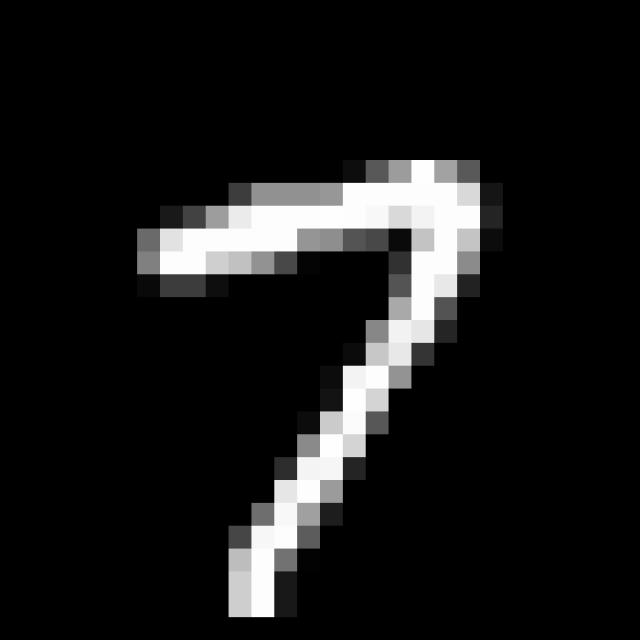seven -7-: (132, 147, 498, 628)
